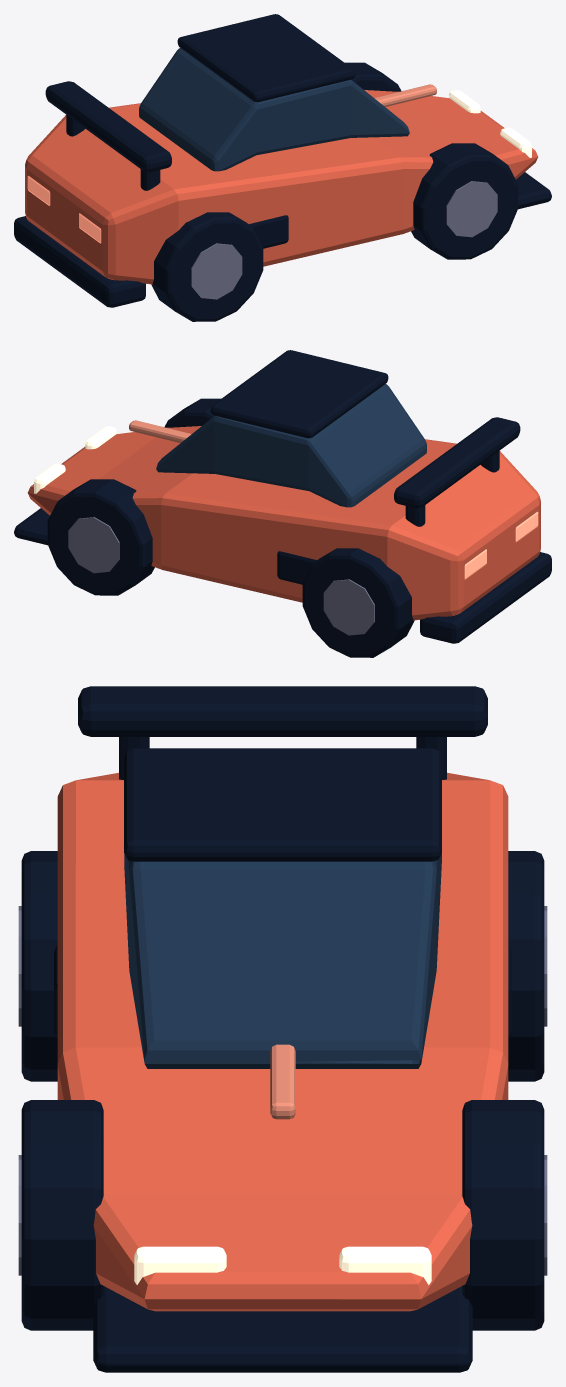
File: melnyklabs-sports-car.glb
3 views of the same model, one above another, from view 1: azimuth 30°, elevation 25°; view 2: azimuth 150°, elevation 25°; view 3: azimuth 270°, elevation 25° (orthographic). The views are drawn at different scales.
Visible parts, largest first — view 1: SportsBody, SportsGlassCanopy, SportsRoofSpine, Wheel_1_0.56, Wheel_1_-0.59, RearSpoilerBlade, RearDiffuser, WheelRim_1_-0.59, WheelRim_1_0.56, Wheel_-1_0.56, SideIntake_0.29, FrontSplitter (+3 smaller); view 2: SportsBody, SportsGlassCanopy, SportsRoofSpine, Wheel_-1_0.56, Wheel_-1_-0.59, RearSpoilerBlade, RearDiffuser, WheelRim_-1_-0.59, WheelRim_-1_0.56, Wheel_1_0.56, SideIntake_-0.29, FrontSplitter (+3 smaller); view 3: SportsBody, SportsGlassCanopy, SportsRoofSpine, FrontSplitter, RearSpoilerBlade, Wheel_-1_0.56, Wheel_1_0.56, Wheel_-1_-0.59, Wheel_1_-0.59, Headlight_0.2, Headlight_-0.2, SportsAccent.
Boxes of the visible parts, <box> form: SportsBody: <box>25,90,538,284</box>; SportsGlassCanopy: <box>139,48,409,171</box>; SportsRoofSpine: <box>177,14,355,102</box>; Wheel_1_0.56: <box>411,143,518,259</box>; Wheel_1_-0.59: <box>151,212,263,321</box>; RearSpoilerBlade: <box>45,81,171,172</box>; RearDiffuser: <box>14,216,145,307</box>; WheelRim_1_-0.59: <box>191,243,242,299</box>; WheelRim_1_0.56: <box>446,181,497,237</box>; Wheel_-1_0.56: <box>345,62,401,91</box>; SideIntake_0.29: <box>249,215,288,248</box>; FrontSplitter: <box>516,172,551,209</box>; SportsBody: <box>27,426,540,620</box>; SportsGlassCanopy: <box>156,384,426,507</box>; SportsRoofSpine: <box>210,350,388,438</box>; Wheel_-1_0.56: <box>47,479,154,595</box>; Wheel_-1_-0.59: <box>302,548,414,657</box>; RearSpoilerBlade: <box>394,417,520,508</box>; RearDiffuser: <box>420,552,551,643</box>; WheelRim_-1_-0.59: <box>323,579,374,635</box>; WheelRim_-1_0.56: <box>68,517,119,573</box>; Wheel_1_0.56: <box>164,398,220,427</box>; SideIntake_-0.29: <box>277,551,316,584</box>; FrontSplitter: <box>14,508,49,545</box>; SportsBody: <box>57,772,508,1311</box>; SportsGlassCanopy: <box>124,853,441,1068</box>; SportsRoofSpine: <box>124,748,441,861</box>; FrontSplitter: <box>93,1286,472,1372</box>; RearSpoilerBlade: <box>78,686,487,736</box>; Wheel_-1_0.56: <box>462,1100,544,1330</box>; Wheel_1_0.56: <box>21,1100,103,1330</box>; Wheel_-1_-0.59: <box>508,851,544,1081</box>; Wheel_1_-0.59: <box>21,851,57,1081</box>; Headlight_0.2: <box>134,1246,226,1284</box>; Headlight_-0.2: <box>339,1246,431,1284</box>; SportsAccent: <box>270,1044,295,1119</box>.
Size of the model in its own units: 2.02 by 0.8375 by 1.03.
